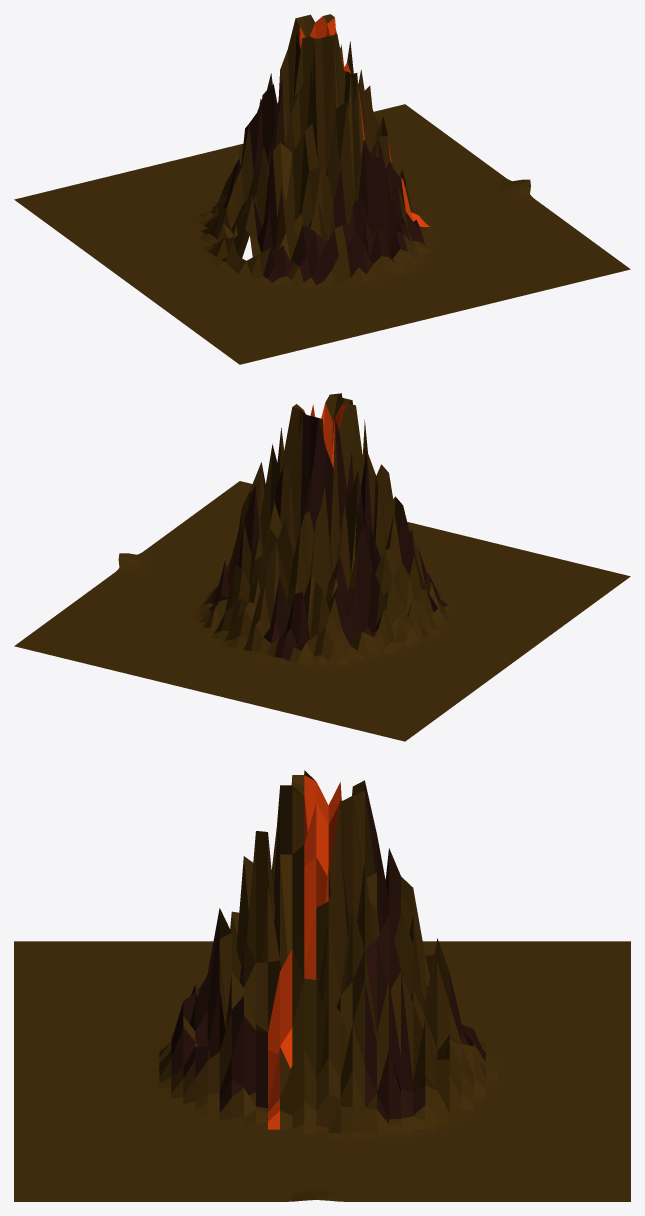
The model's file is volcan.fbx.
3 views of the same model, one above another, from view 1: azimuth 30°, elevation 25°; view 2: azimuth 150°, elevation 25°; view 3: azimuth 270°, elevation 25° (orthographic). The views are drawn at different scales.
Visible parts, largest first — view 1: Plane; view 2: Plane; view 3: Plane.
Boxes of the visible parts, left/top/right/bottom form: Plane: left=14, top=14, right=630, bottom=364; Plane: left=14, top=393, right=630, bottom=741; Plane: left=14, top=770, right=630, bottom=1201.
Size of the model in its own units: 10288 by 6705 by 10034.
